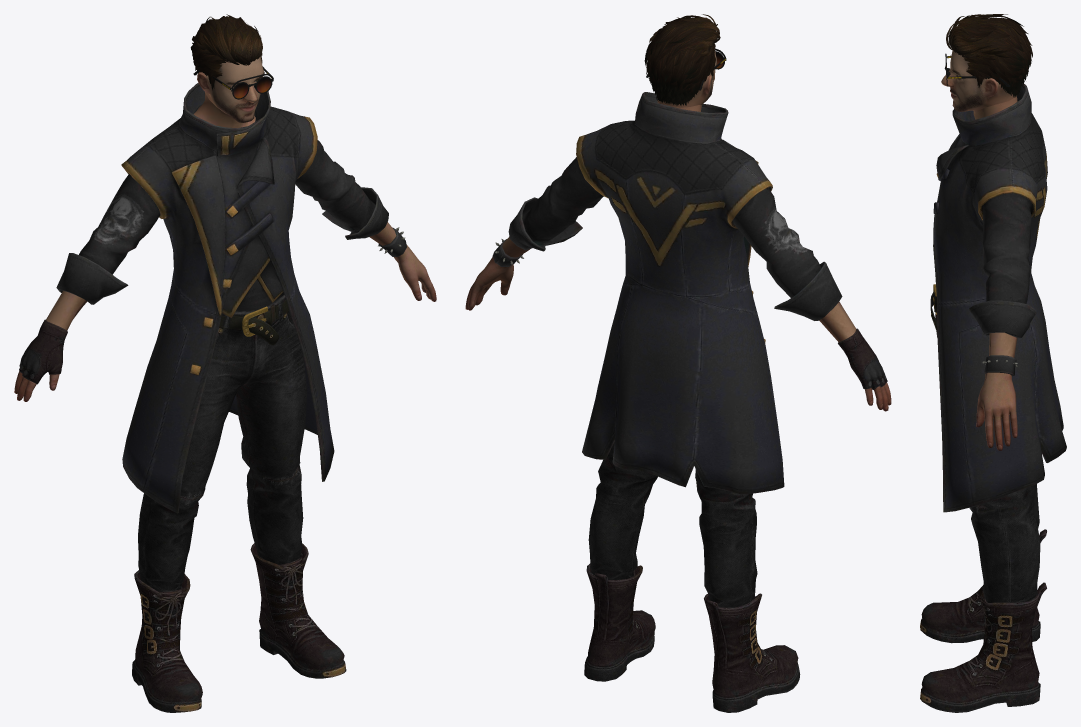
The model's file is free_fire_3d_model_-_alok.glb.
3 views of the same model, side by side, from view 1: azimuth 30°, elevation 25°; view 2: azimuth 150°, elevation 25°; view 3: azimuth 270°, elevation 25° (orthographic).
Visible parts, largest first — view 1: Mesh_0093.rip, Mesh_0094.rip, Mesh_0095.rip, Mesh_0091.rip, Mesh_0092.rip; view 2: Mesh_0093.rip, Mesh_0095.rip, Mesh_0094.rip, Mesh_0092.rip, Mesh_0091.rip; view 3: Mesh_0093.rip, Mesh_0095.rip, Mesh_0094.rip, Mesh_0091.rip, Mesh_0092.rip.
Part boxes in pixels (x1,y1,x2,y2): Mesh_0093.rip: (19,82,406,513); Mesh_0094.rip: (138,295,306,591); Mesh_0095.rip: (132,543,346,712); Mesh_0091.rip: (14,56,436,401); Mesh_0092.rip: (190,14,262,90); Mesh_0093.rip: (492,92,887,494); Mesh_0095.rip: (584,563,800,712); Mesh_0094.rip: (588,442,757,607); Mesh_0092.rip: (644,14,720,105); Mesh_0091.rip: (465,49,891,411); Mesh_0093.rip: (933,83,1066,512); Mesh_0095.rip: (920,529,1046,712); Mesh_0094.rip: (930,284,1040,602); Mesh_0091.rip: (941,50,1017,450); Mesh_0092.rip: (946,14,1032,97).
Bounding box in the file's own units: 1.34 × 2.01 × 0.4134.
6 materials, 6 textured.
